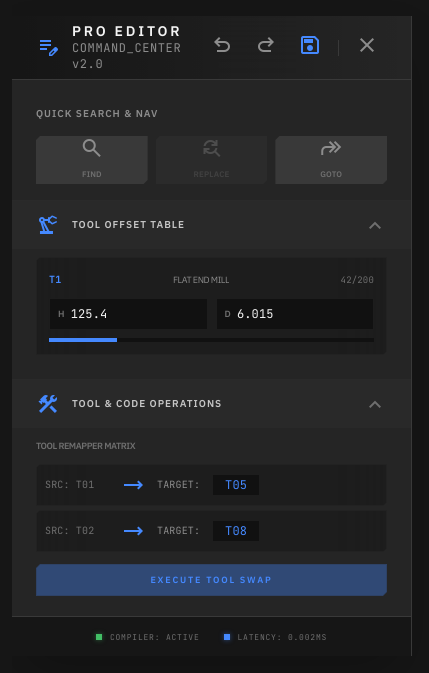
Test: EditSidebar › Find › highlights the first match as soon as a query has any matches
This screenshot has width=429, height=673.
Click the button "FIND" at {"x": 92, "y": 160}, box [36,136,148,184]
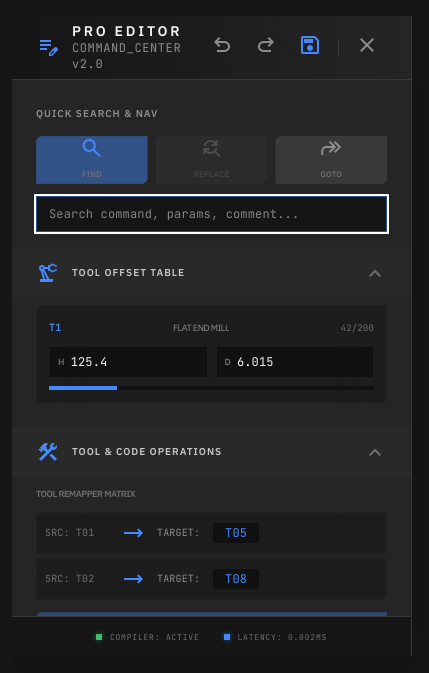
Type "g" into the field named "Find in G-code" at {"x": 212, "y": 214}, box [36,196,387,232]
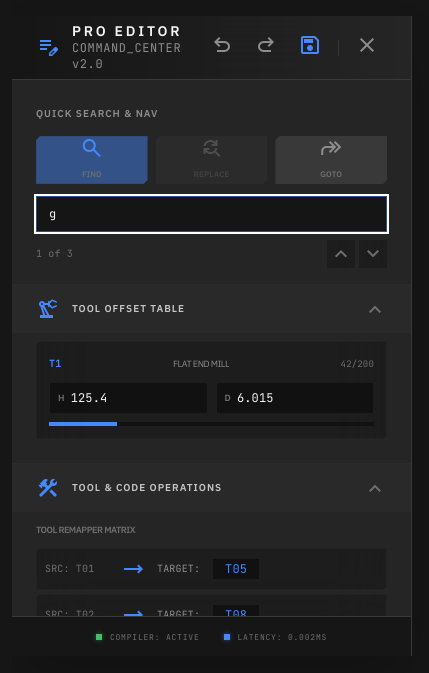
Expected: the text "1 of 3" is shown, [36,244,73,264]
